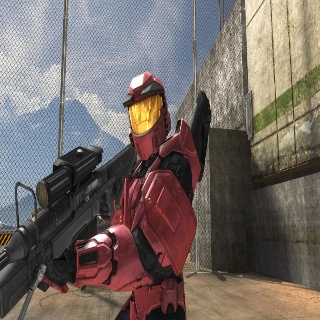rifle: (1, 144, 136, 320)
